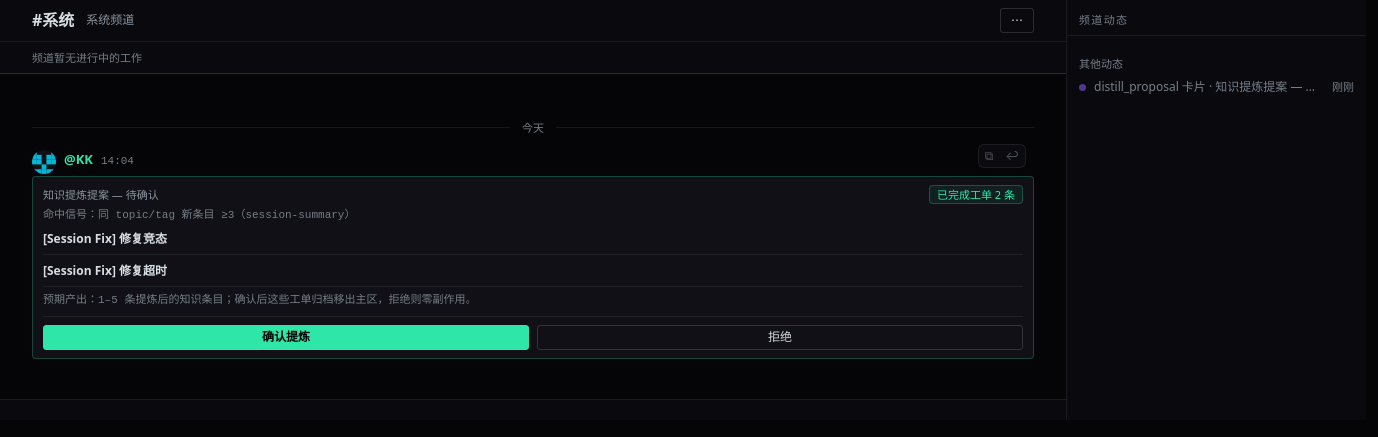
it: ChannelDetailPage — distill_proposal 审核分发 › approve → distillApi.approve(proposalId)，卡片显示已执行
The image size is (1378, 437).
Step 1. Click the button "确认提炼" → coordinates (286, 338), box [43,325,529,350]
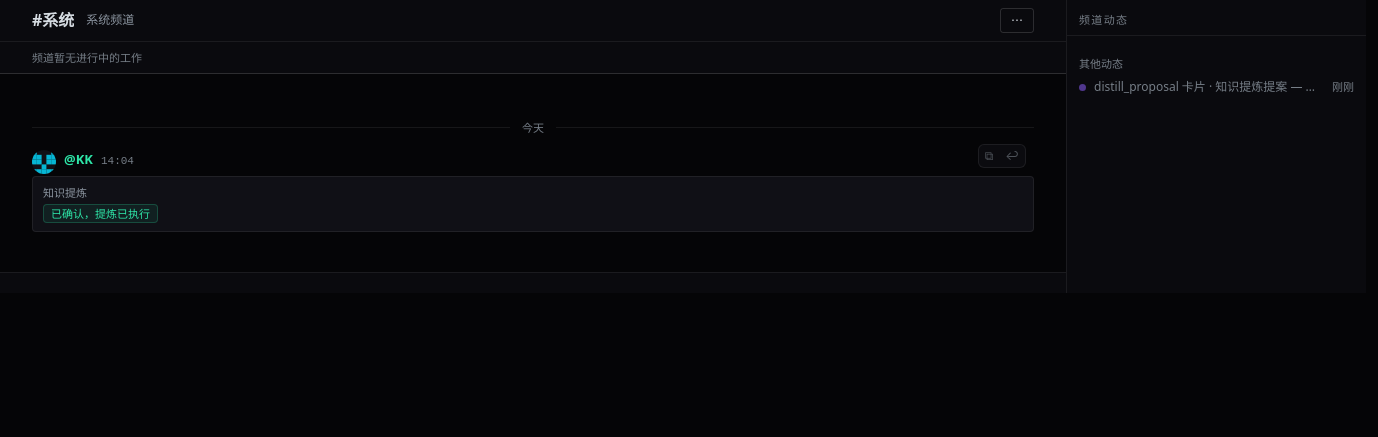
Check: the text "已确认，提炼已执行" is shown, box [43,204,158,223]
